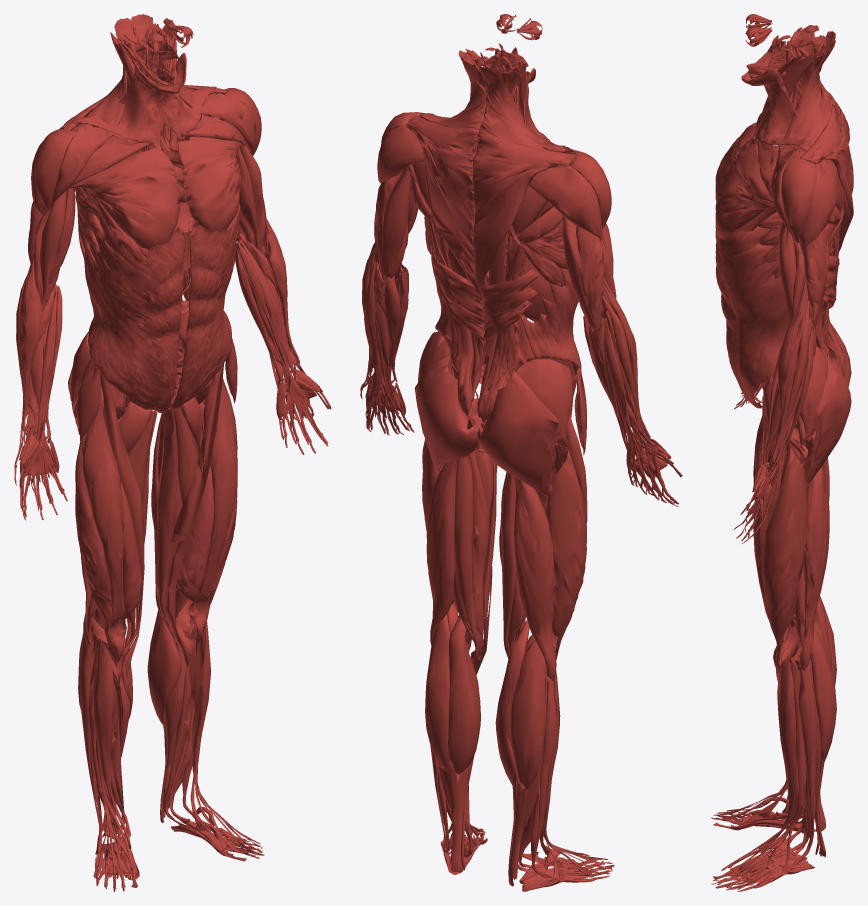
File: musculos.glb
3 renders of one model, left to right at view 1: azimuth 30°, elevation 25°; view 2: azimuth 150°, elevation 25°; view 3: azimuth 270°, elevation 25°, orthographic.
Parts seen in each view (by area): view 1: FMA13336, FMA13337, FMA79979, FMA38928, FMA79980, FMA38929, FMA22355, FMA38930, FMA45739, FMA43884, FMA22354, FMA22544 (+42 smaller); view 2: FMA22328, FMA45888, FMA38930, FMA33583, FMA33581, FMA22329, FMA45960, FMA45889, FMA45958, FMA13336, FMA22359, FMA45961 (+44 smaller); view 3: FMA13337, FMA38931, FMA45889, FMA79980, FMA22329, FMA45740, FMA22545, FMA34683, FMA33587, FMA45961, FMA38487, FMA22549 (+36 smaller).
Boxes of the visible parts, bbox=[...] form: FMA13336: bbox=[84, 217, 184, 412]; FMA13337: bbox=[168, 203, 240, 409]; FMA79979: bbox=[68, 146, 180, 249]; FMA38928: bbox=[83, 382, 126, 662]; FMA79980: bbox=[177, 137, 242, 230]; FMA38929: bbox=[189, 370, 237, 642]; FMA22355: bbox=[163, 363, 224, 664]; FMA38930: bbox=[75, 433, 116, 660]; FMA45739: bbox=[72, 64, 176, 144]; FMA43884: bbox=[155, 407, 192, 639]; FMA22354: bbox=[99, 372, 144, 679]; FMA22544: bbox=[93, 641, 131, 849]; FMA22328: bbox=[477, 371, 561, 498]; FMA45888: bbox=[514, 476, 556, 681]; FMA38930: bbox=[546, 444, 586, 659]; FMA33583: bbox=[416, 131, 481, 298]; FMA33581: bbox=[472, 154, 558, 298]; FMA22329: bbox=[414, 355, 478, 471]; FMA45960: bbox=[510, 640, 546, 789]; FMA45889: bbox=[426, 460, 457, 644]; FMA45958: bbox=[448, 617, 480, 774]; FMA13336: bbox=[521, 268, 581, 374]; FMA22359: bbox=[453, 454, 479, 667]; FMA45961: bbox=[425, 614, 449, 768]; FMA13337: bbox=[715, 226, 789, 408]; FMA38931: bbox=[762, 442, 806, 671]; FMA45889: bbox=[799, 464, 829, 670]; FMA79980: bbox=[715, 143, 774, 238]; FMA22329: bbox=[802, 349, 851, 486]; FMA45740: bbox=[741, 69, 811, 150]; FMA22545: bbox=[756, 658, 797, 852]; FMA34683: bbox=[781, 155, 816, 242]; FMA33587: bbox=[784, 40, 835, 145]; FMA45961: bbox=[794, 621, 836, 765]; FMA38487: bbox=[770, 274, 808, 464]; FMA22549: bbox=[713, 656, 806, 889].
Size of the model in its own units: 0.6388 by 1.61 by 0.2503.
